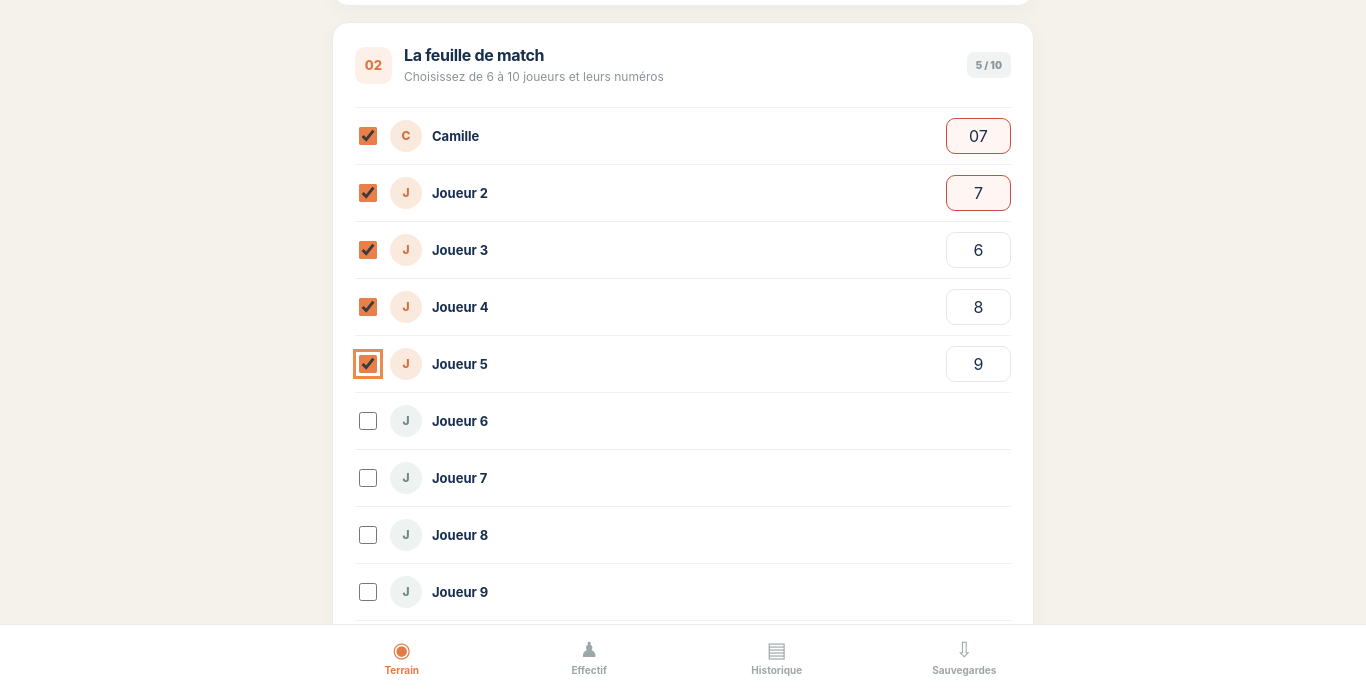
Test: coach workflow › reuses saved preferences on the match sheet and requires unique match numbers
This screenshot has width=1366, height=690.
Earlier steps of the test are not shown.
(page scrolled)
Step 1. Click the checkbox labelled "Joueur 6" → (368, 420), box [359,412,377,430]
(page scrolled)
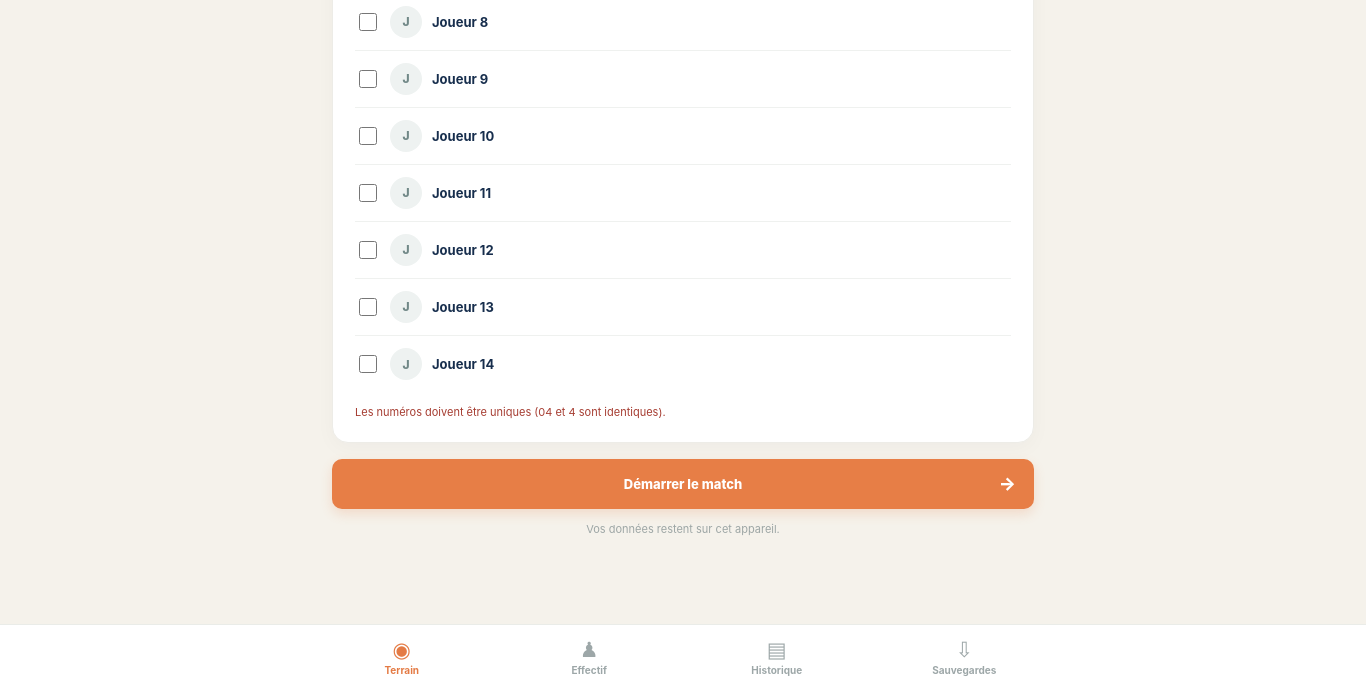
Expected: the message shows "numéros doivent être uniques", [355,404,666,418]
Step 2. Click the button "Démarrer le match →" → (683, 484), box [332,459,1034,509]
(page scrolled)
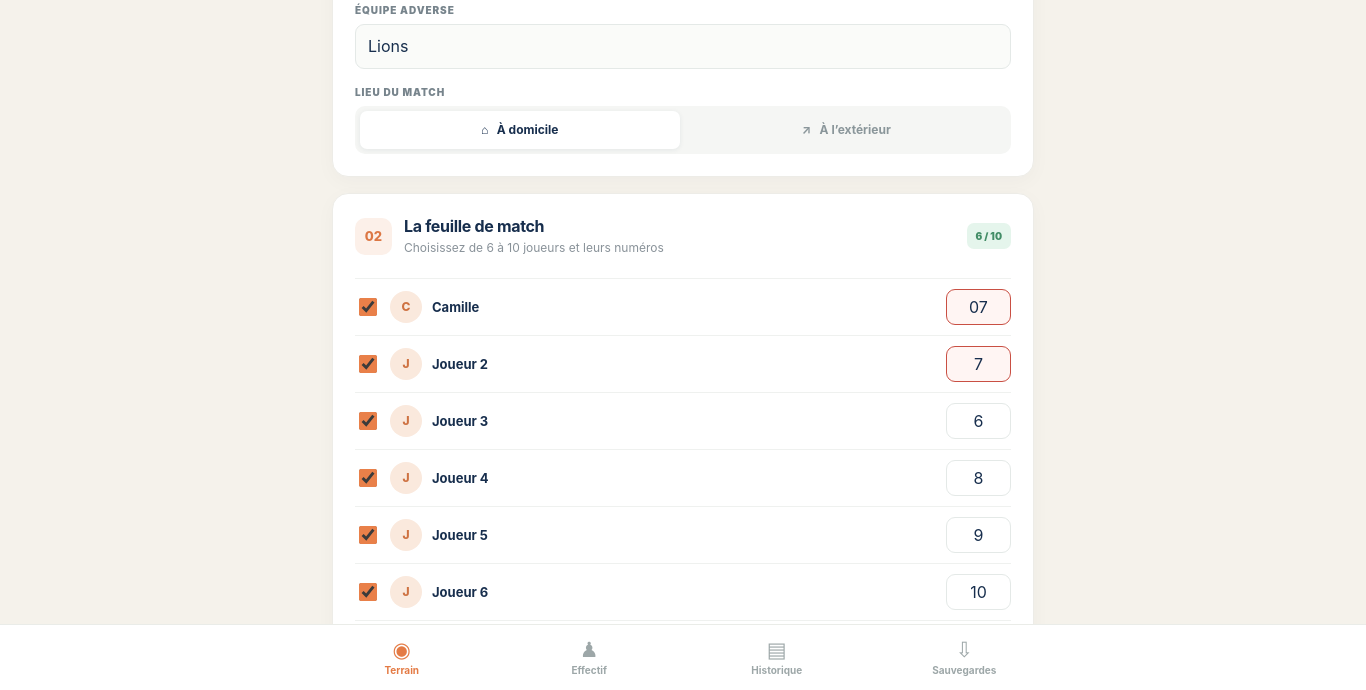
Step 3. Replace the text in the field named "Numéro de Camille" in the row of "Camille" with "23" → (978, 306), box [946,288,1011,324]
(page scrolled)
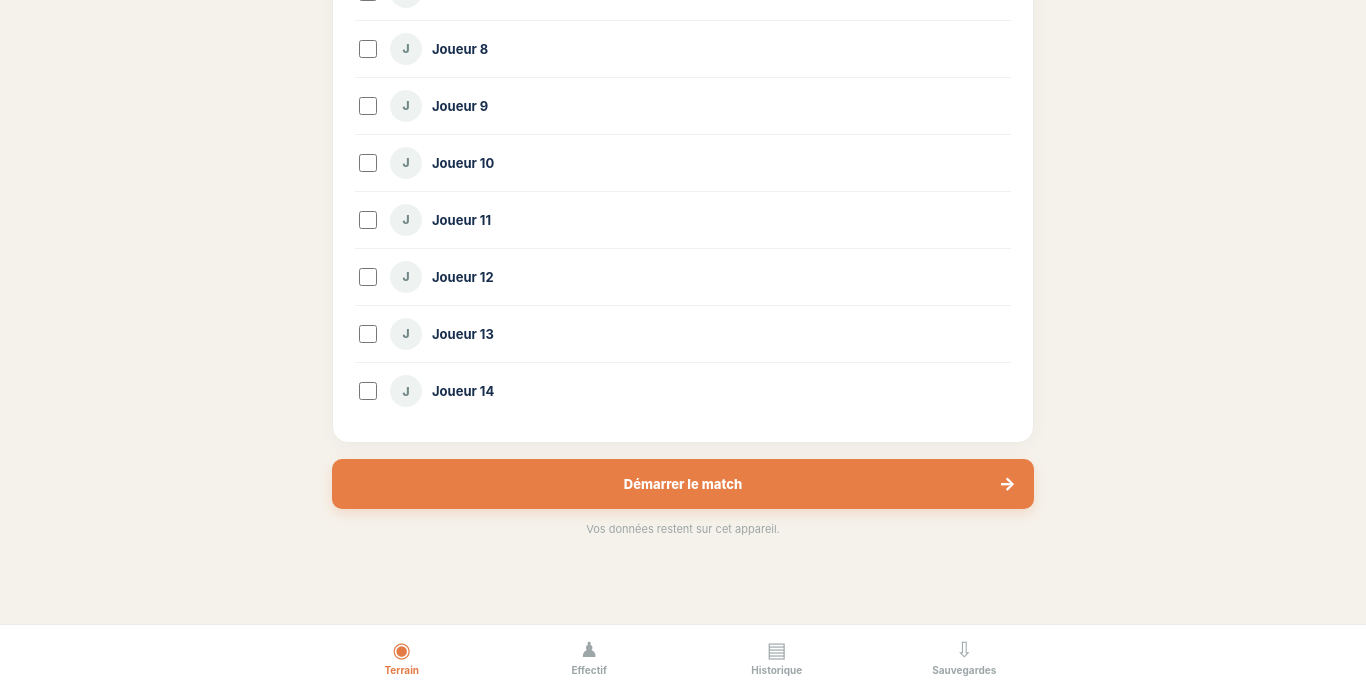
Step 4. Click the button "Démarrer le match →" → (683, 484), box [332,458,1034,508]
(page scrolled)
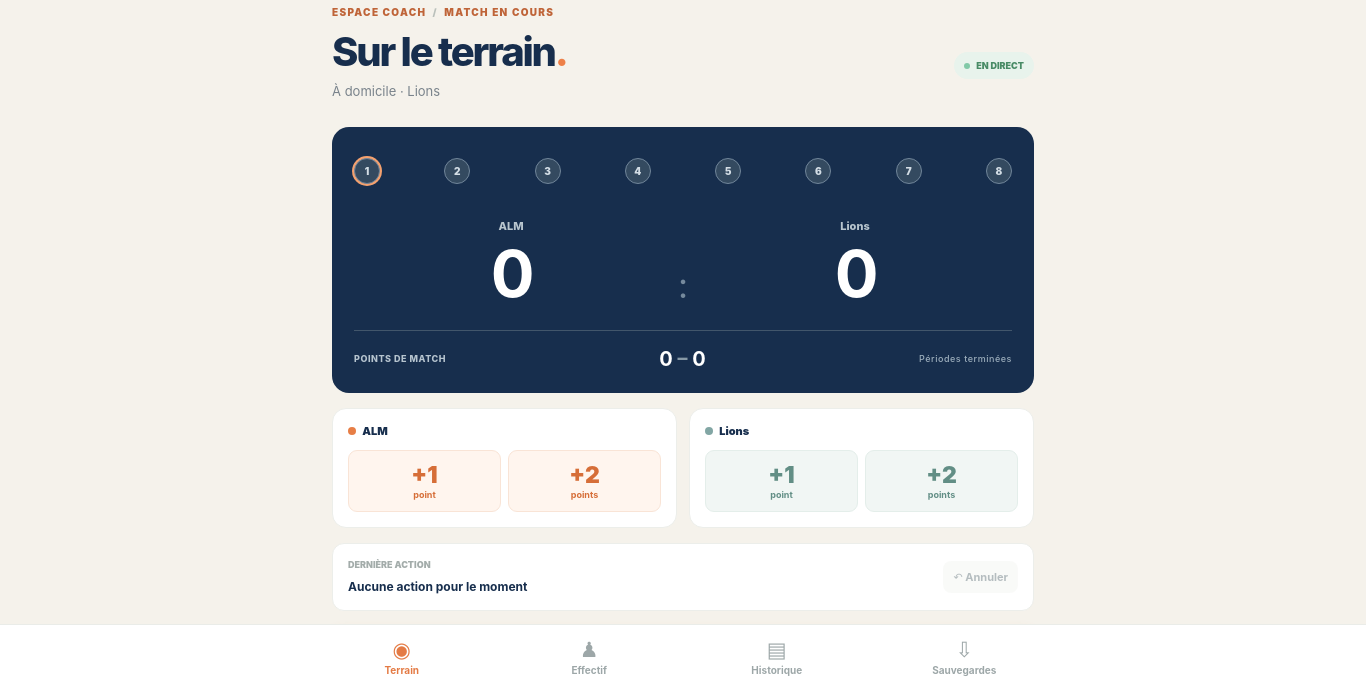
Now the heading "Sur le terrain." is shown, box [332,30,567,74]
